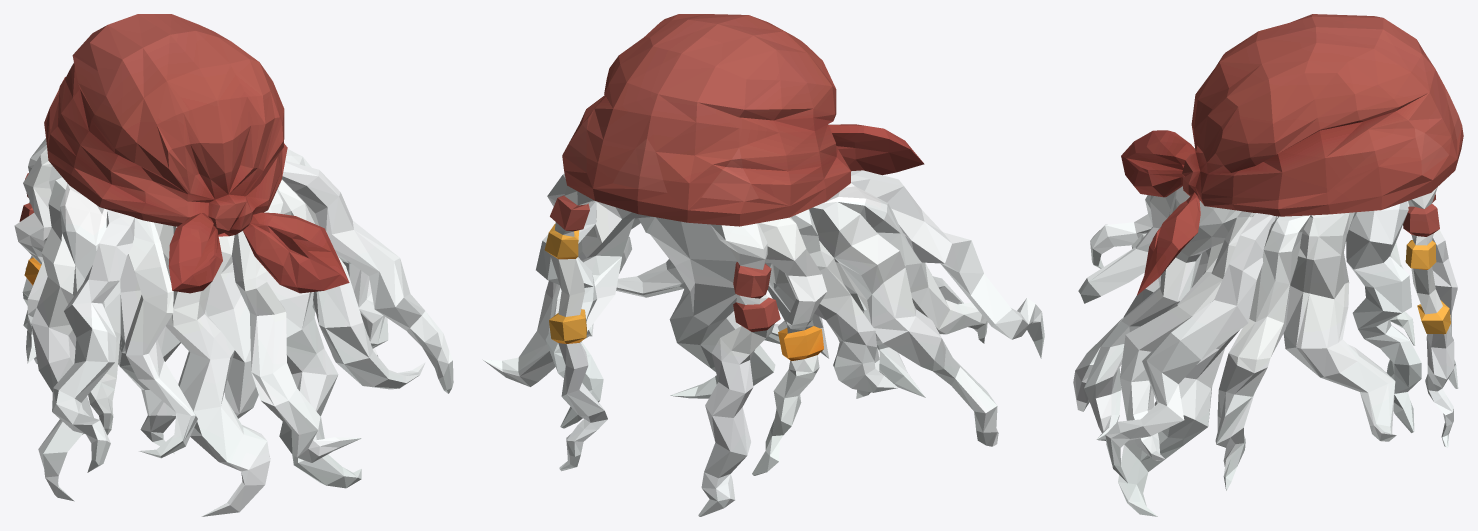
The model's file is CharSkyKid_Hair_TreasureBandanaLong.glb.
3 renders of one model, left to right at view 1: azimuth 30°, elevation 25°; view 2: azimuth 150°, elevation 25°; view 3: azimuth 270°, elevation 25°, orthographic. The views are drawn at different scales.
Parts seen in each view (by area): view 1: CharSkyKid_Hair_TreasureBandanaLong; view 2: CharSkyKid_Hair_TreasureBandanaLong; view 3: CharSkyKid_Hair_TreasureBandanaLong.
Boxes of the visible parts, left/top/right/bottom form: CharSkyKid_Hair_TreasureBandanaLong: left=14, top=14, right=453, bottom=516; CharSkyKid_Hair_TreasureBandanaLong: left=482, top=14, right=1044, bottom=516; CharSkyKid_Hair_TreasureBandanaLong: left=1073, top=14, right=1463, bottom=516.
Bounding box in the file's own units: 5.32 × 5.47 × 4.47.
1 material, 1 textured.
